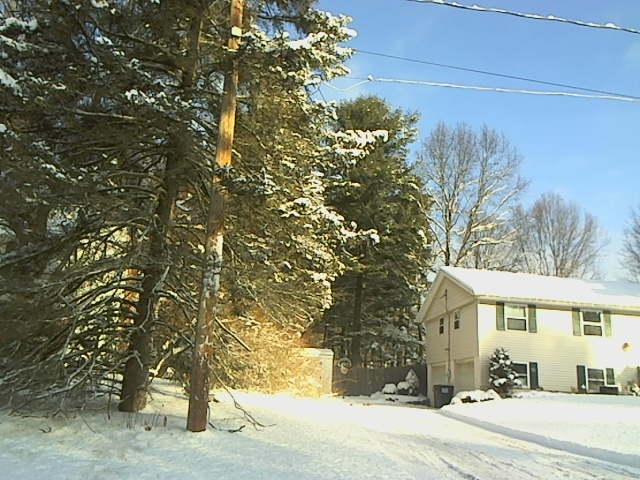Unploughed: (347, 402, 626, 477)
